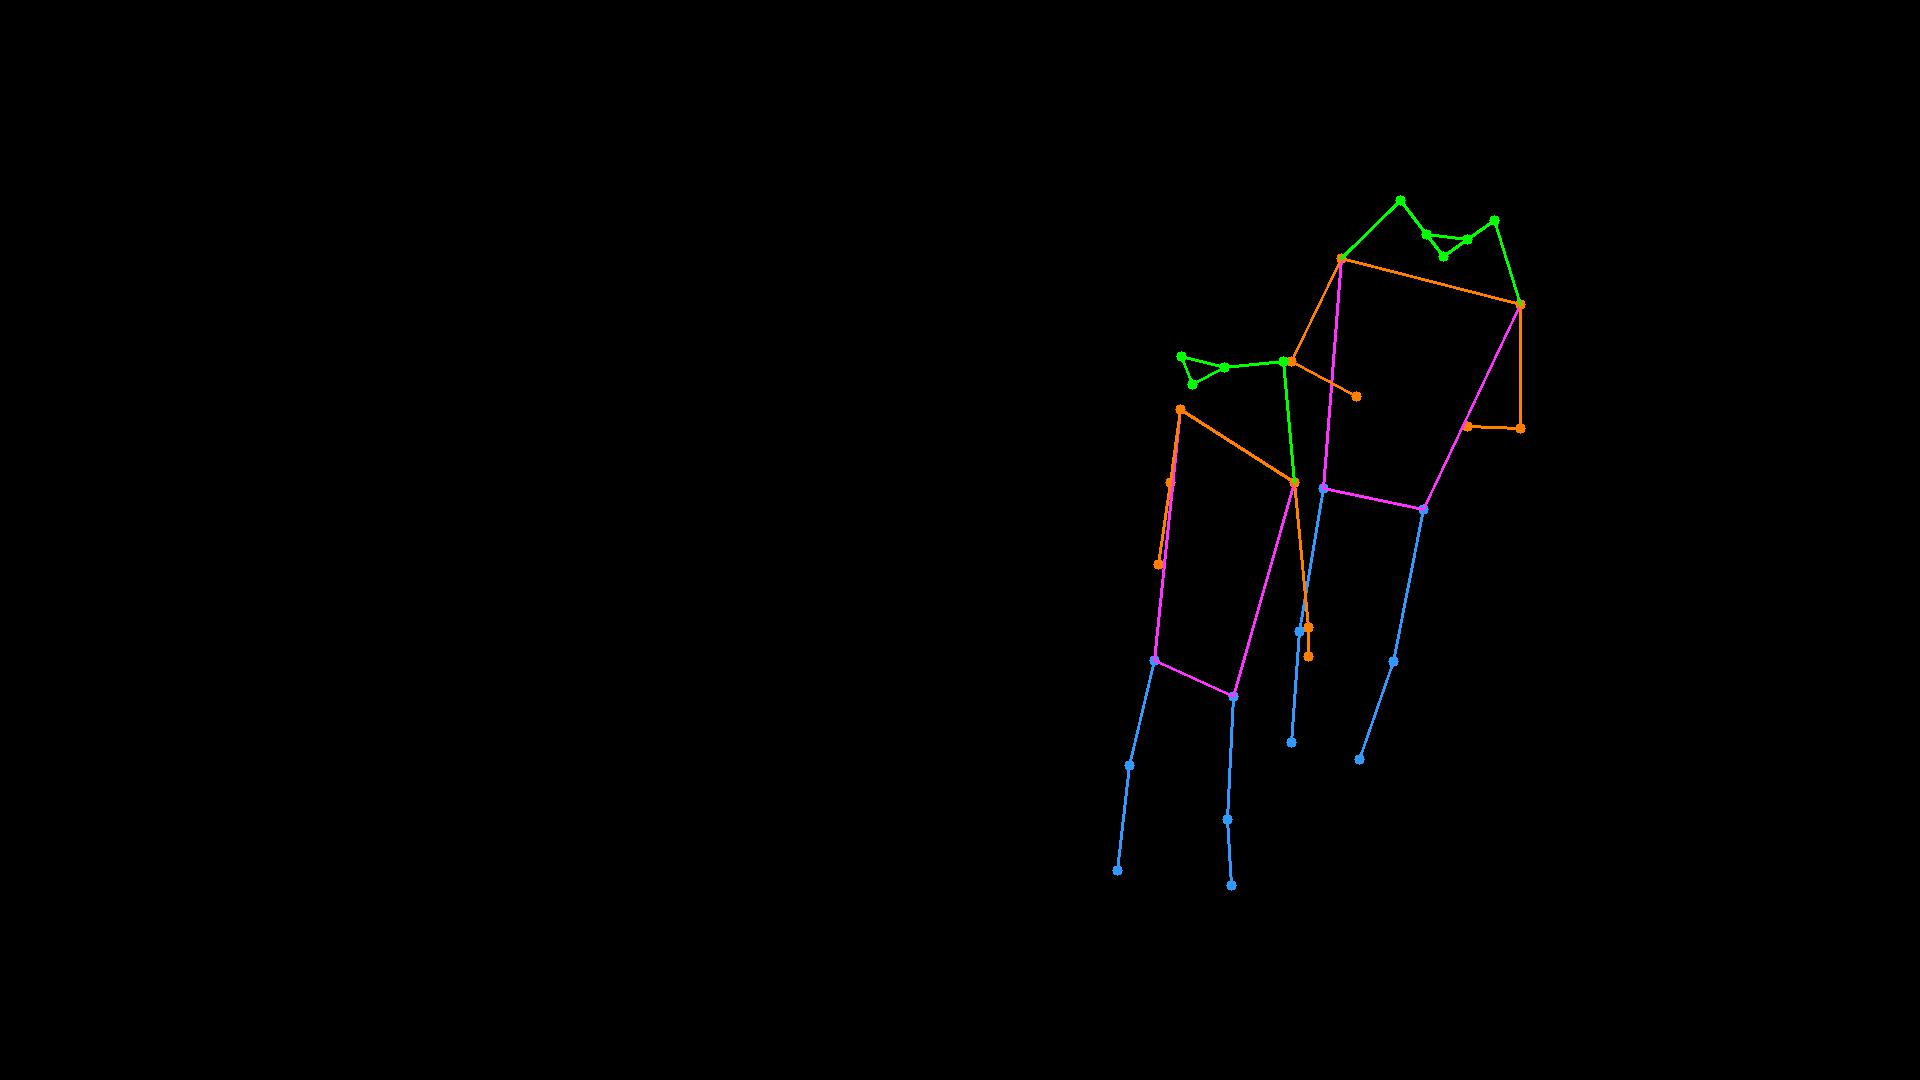normal: (1035, 135, 1582, 957)
